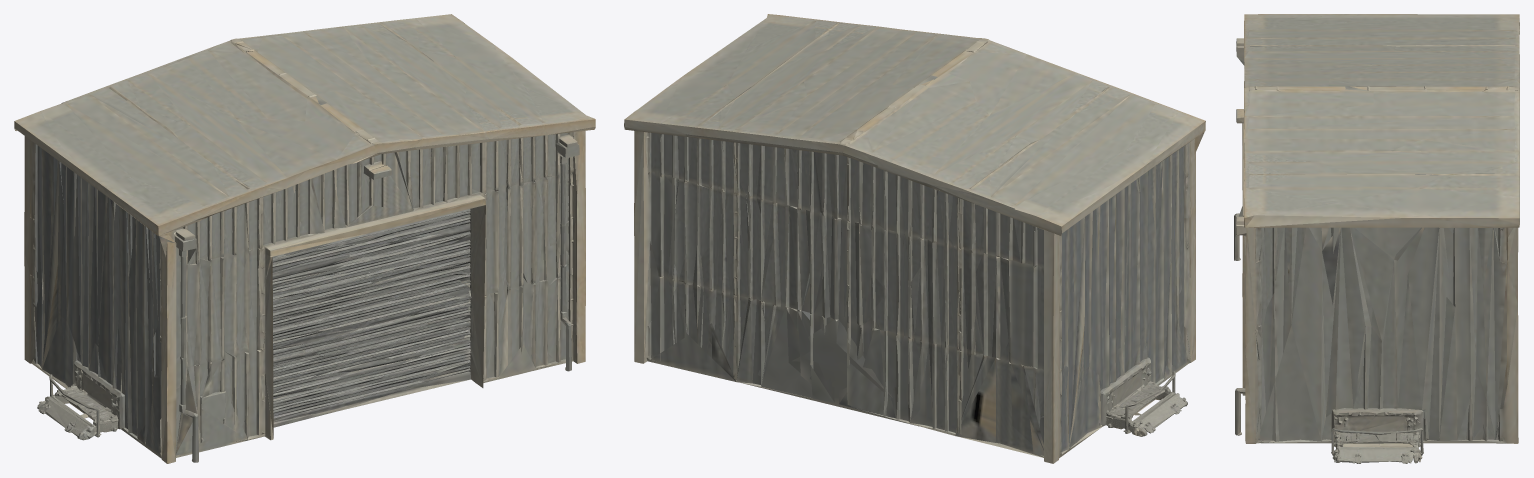
The model's file is web.glb.
The picture shows the model from 3 angles, left to right: view 1: azimuth 30°, elevation 25°; view 2: azimuth 150°, elevation 25°; view 3: azimuth 270°, elevation 25°; orthographic projection. The views are drawn at different scales.
Visible parts, largest first — view 1: output_unwrapped; view 2: output_unwrapped; view 3: output_unwrapped.
Boxes of the visible parts, x1,y1,x2,y2 form: output_unwrapped: (14, 14, 595, 463); output_unwrapped: (624, 14, 1205, 463); output_unwrapped: (1234, 14, 1519, 463).
Bounding box in the file's own units: 1.9 × 0.9866 × 0.9786.
Materials: 1 (1 with a texture image).
